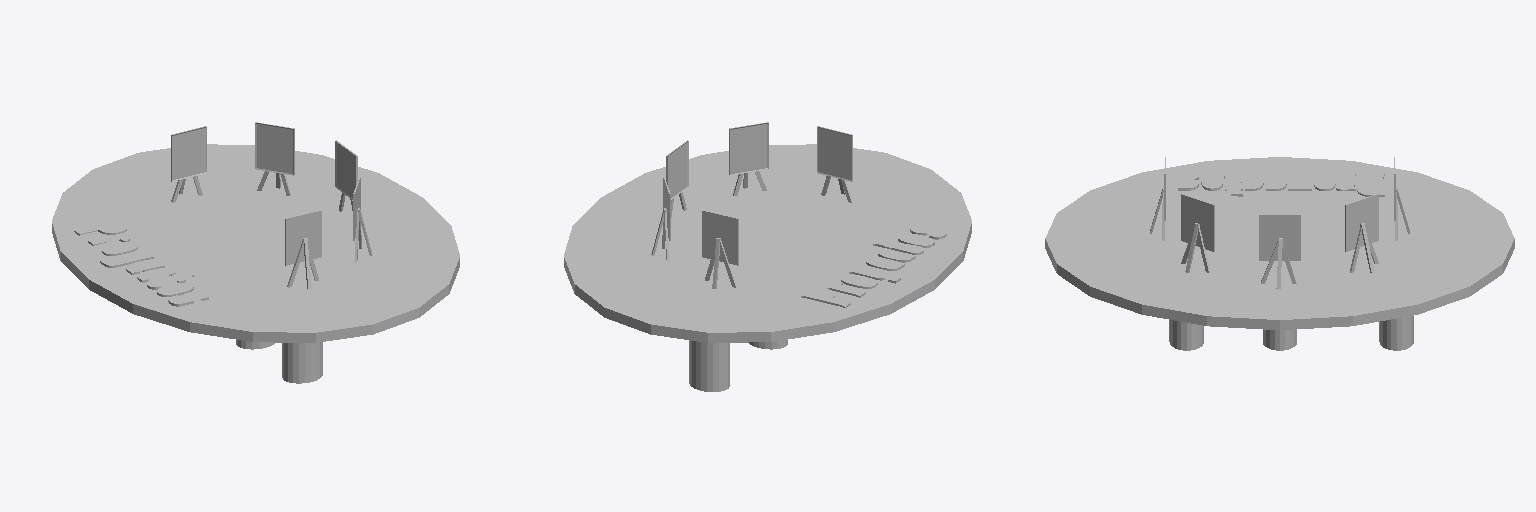
The model's file is proyectos.obj.
3 renders of one model, left to right at view 1: azimuth 30°, elevation 25°; view 2: azimuth 150°, elevation 25°; view 3: azimuth 270°, elevation 25°, orthographic.
Visible parts, largest first — view 1: pCylinder1, typeMesh1, pasted__pasted__pCube1 pasted__group4 group5, pasted__pCube1 group4, pasted__pCylinder2 group17, pCube1, pasted__group4 group5 pasted__pasted__pasted__pasted__pCube1 pas; view 2: pCylinder1, typeMesh1, pasted__pasted__pCube1 pasted__group4 group5, pasted__pCube1 group4, pasted__pCylinder2 group16, pCube1, pasted__group4 group5 pasted__pasted__pasted__pasted__pCube1 pas; view 3: pCylinder1, typeMesh1, pasted__pCube1 group4, pCube1, pasted__pCylinder2 group16, pasted__pCylinder2 group17, group4 pasted__pasted__pasted__pCube1 pasted__pasted__group past, pCylinder2.
Part boxes in pixels (x1,y1,x2,y2): pCylinder1: (52,144,459,342); typeMesh1: (74,219,208,306); pasted__pasted__pCube1 pasted__group4 group5: (171,126,321,265); pasted__pCube1 group4: (255,122,360,240); pasted__pCylinder2 group17: (282,342,322,383); pCube1: (335,140,357,199); pasted__group4 group5 pasted__pasted__pasted__pasted__pCube1 pas: (171,179,311,288); pCylinder1: (564,144,971,342); typeMesh1: (801,223,946,307); pasted__pasted__pCube1 pasted__group4 group5: (702,126,852,265); pasted__pCube1 group4: (663,122,768,240); pasted__pCylinder2 group16: (689,340,729,391); pCube1: (666,140,688,199); pasted__group4 group5 pasted__pasted__pasted__pasted__pCube1 pas: (712,179,852,288); pCylinder1: (1045,157,1514,329); typeMesh1: (1178,167,1384,196); pasted__pCube1 group4: (1181,194,1378,251); pCube1: (1259,214,1300,260); pasted__pCylinder2 group16: (1379,316,1413,350); pasted__pCylinder2 group17: (1169,320,1203,350); group4 pasted__pasted__pasted__pCube1 pasted__pasted__group past: (1181,223,1378,272); pCylinder2: (1263,329,1296,350).
Bounding box in the file's own units: 7.48 × 3.66 × 9.09.